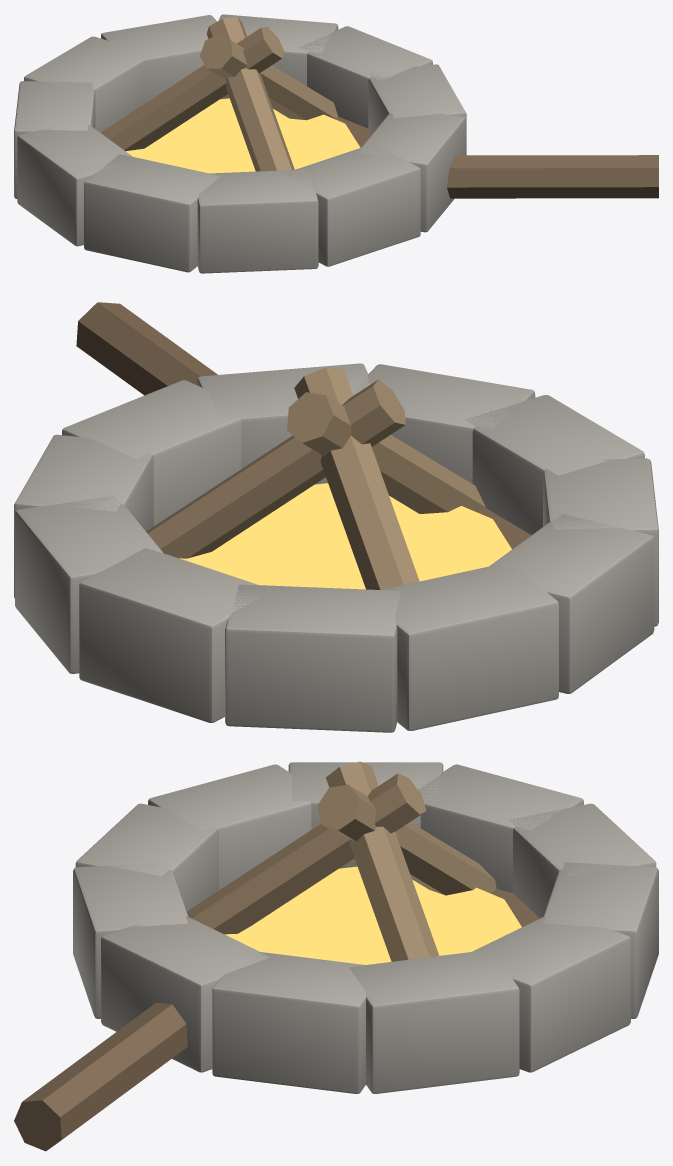
File: campfire.glb
The picture shows the model from 3 angles, top to bottom: view 1: azimuth 30°, elevation 25°; view 2: azimuth 150°, elevation 25°; view 3: azimuth 270°, elevation 25°; orthographic projection. The views are drawn at different scales.
Visible parts, largest first — view 1: campfire; view 2: campfire; view 3: campfire.
Boxes of the visible parts, box(x1,y1,x2,y2) form: campfire: box(14, 14, 658, 273); campfire: box(14, 302, 658, 732); campfire: box(14, 761, 658, 1151).
Size of the model in its own units: 1.93 by 0.5824 by 1.69.
